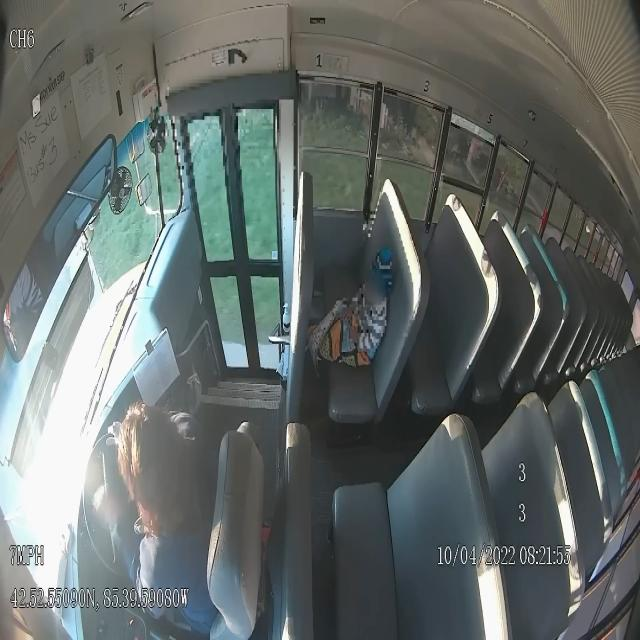bus-door: (188, 107, 281, 373)
